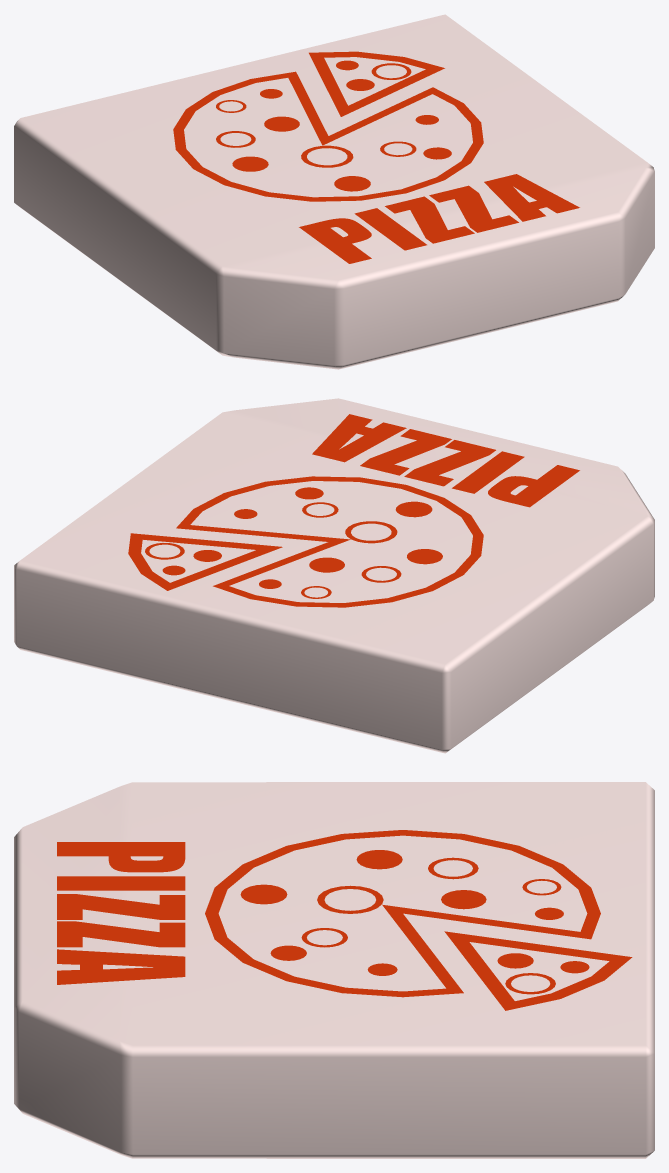
The model's file is Store_1_Pizza_Box_1.glb.
3 renders of one model, top to bottom at view 1: azimuth 30°, elevation 25°; view 2: azimuth 150°, elevation 25°; view 3: azimuth 270°, elevation 25°, orthographic. The views are drawn at different scales.
Parts seen in each view (by area): view 1: Store_1_Pizza_Box_1; view 2: Store_1_Pizza_Box_1; view 3: Store_1_Pizza_Box_1.
Part boxes in pixels (x1=…): Store_1_Pizza_Box_1: x1=14, y1=14, x2=654, y2=369; Store_1_Pizza_Box_1: x1=14, y1=398, x2=654, y2=753; Store_1_Pizza_Box_1: x1=14, y1=782, x2=654, y2=1158.
Size of the model in its own units: 3.15 by 0.617 by 3.15.
Materials: 1 (1 with a texture image).
